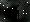person: (19, 7, 24, 19)
